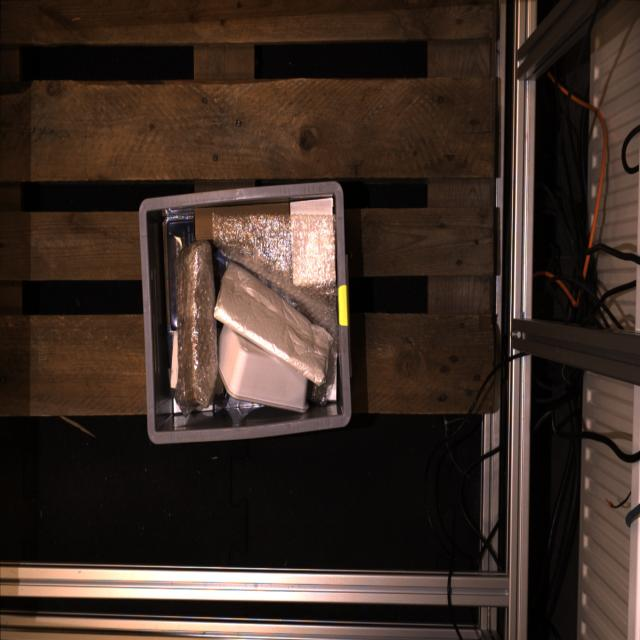BoxInsideWrap: (174, 242, 218, 408)
CardboardBox: (290, 200, 336, 284), (194, 203, 289, 240), (324, 343, 337, 401), (170, 331, 178, 388), (173, 398, 181, 413), (197, 405, 213, 412)
ItemPackaging: (167, 220, 193, 329)
Package: (214, 260, 332, 387)
PackagingAirBags: (212, 211, 338, 349)
PlasticContainer: (217, 324, 307, 411)
